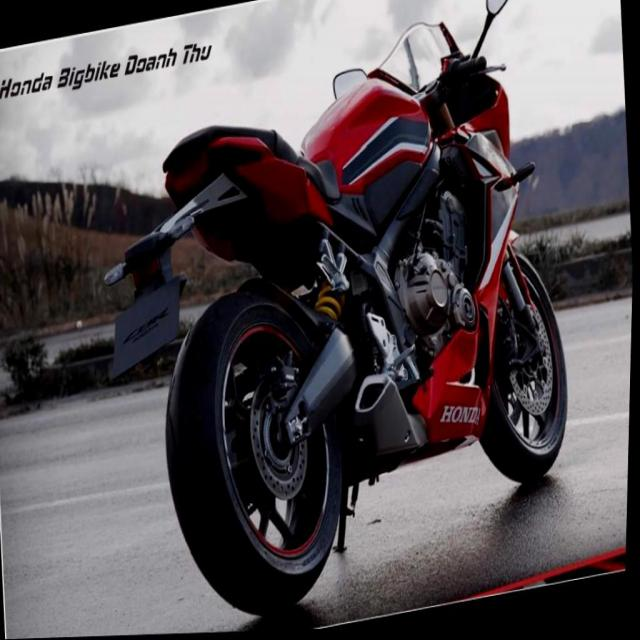CBR650R: (135, 0, 593, 635)
